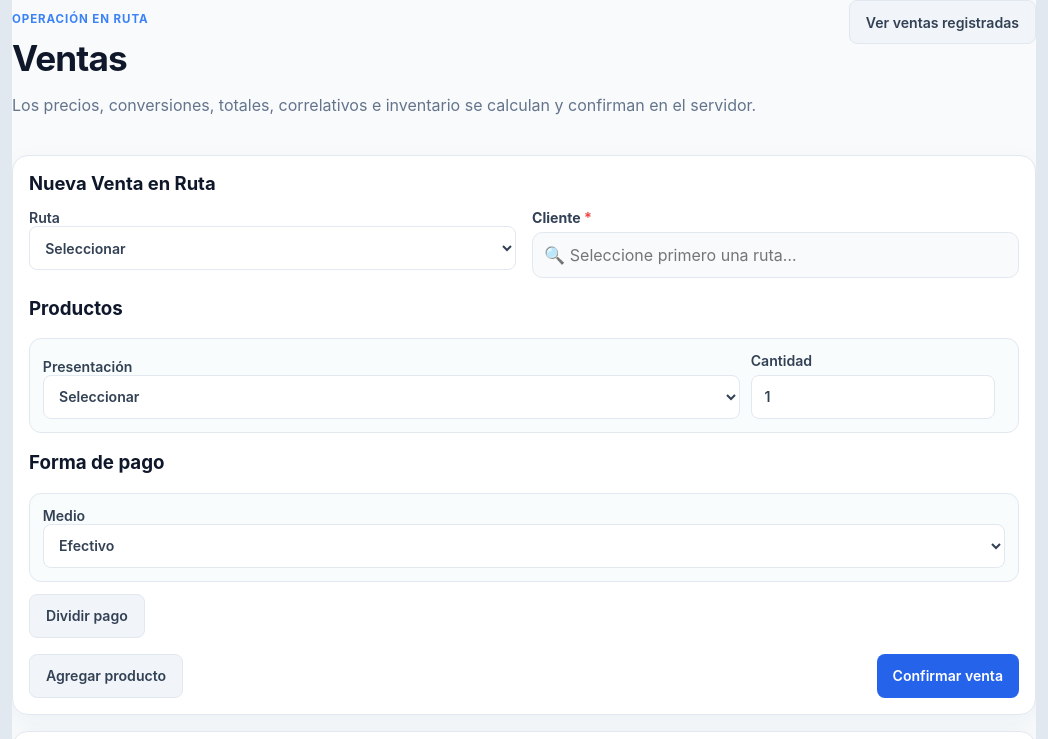
SalesPage › no crea una venta cuando el dispositivo no admite geolocalización
Select "R-01 · Ruta norte" in the dropdown labelled "Ruta". click: (272, 248)
box: [29,226,516,270]
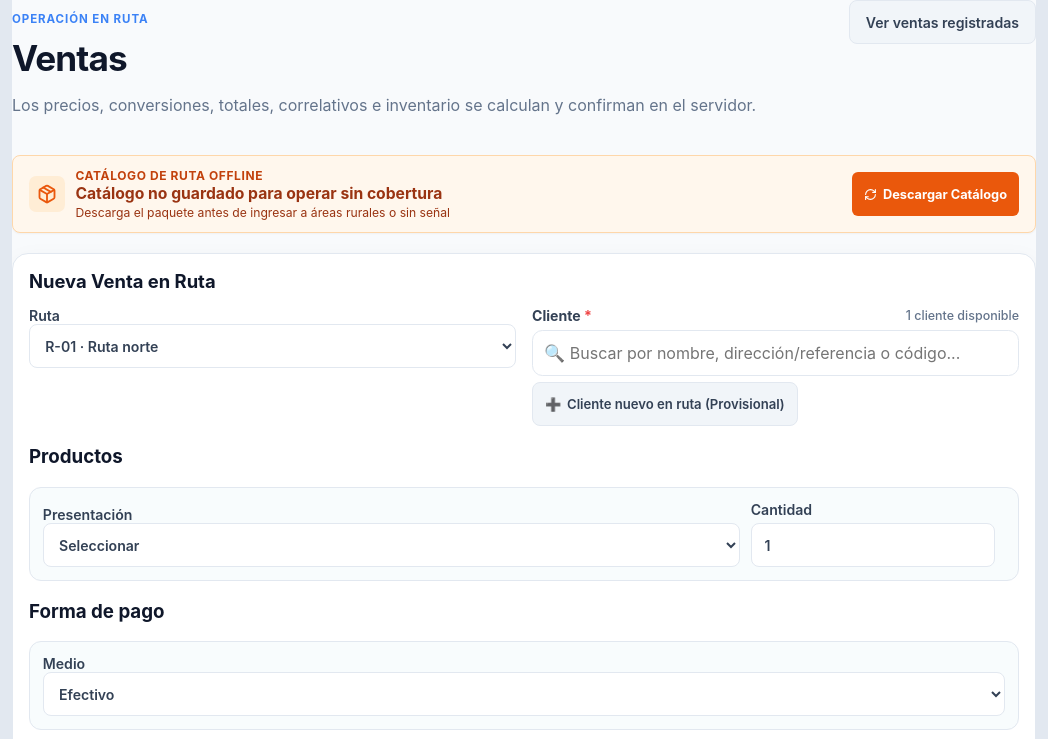
Select "⚡ C-01 · Tienda La Fuente (Provisional)" in the dropdown labelled "Cliente". click: (556, 316)
box: [532,307,1019,324]
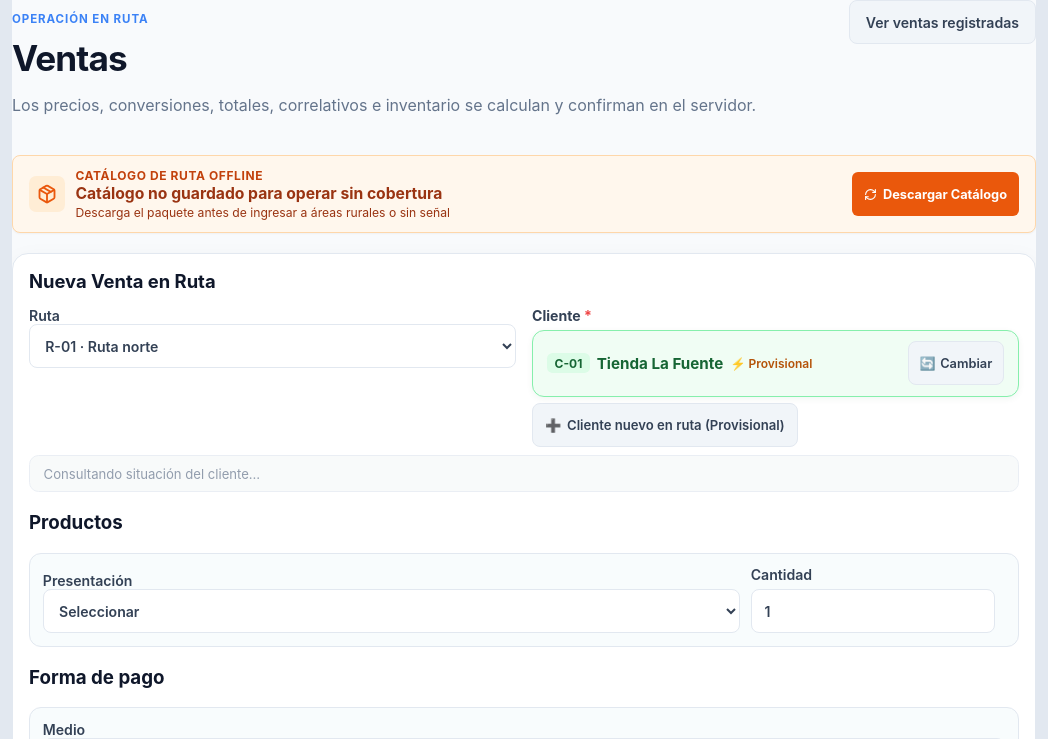
Select "AGUA · Agua pura · Botella 600 ml" in the dropdown labelled "Presentación". click: (392, 611)
box: [43,589,740,633]
(page scrolled)
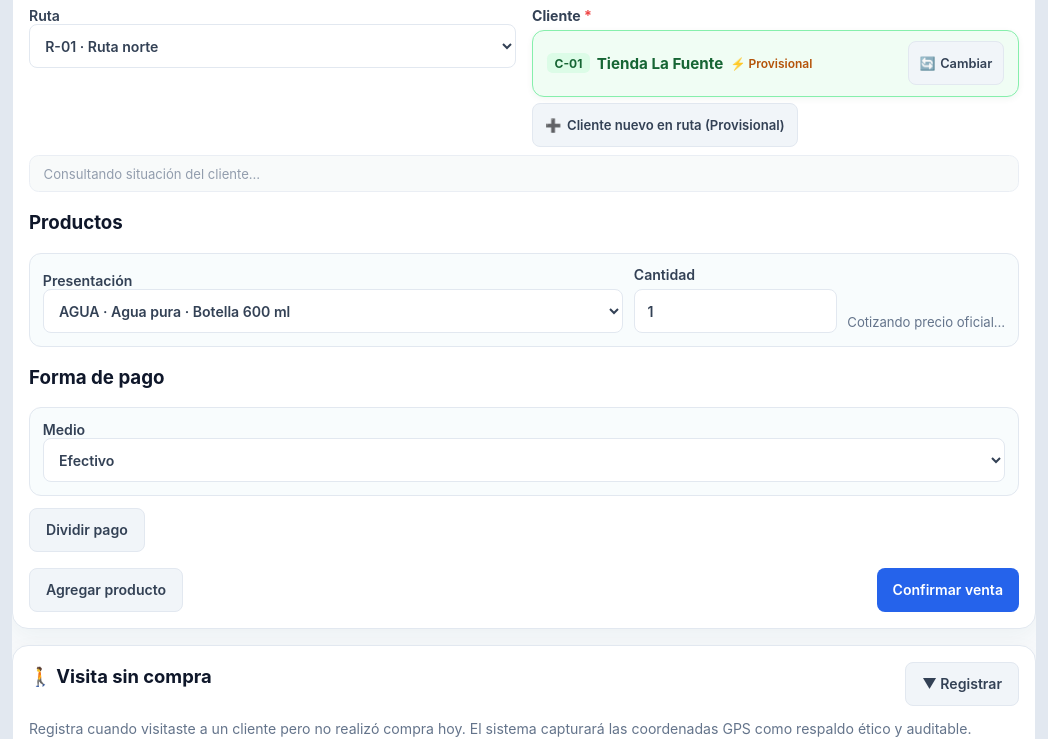
Click the button "Confirmar venta". click: (948, 590)
box: [876,568,1019,612]
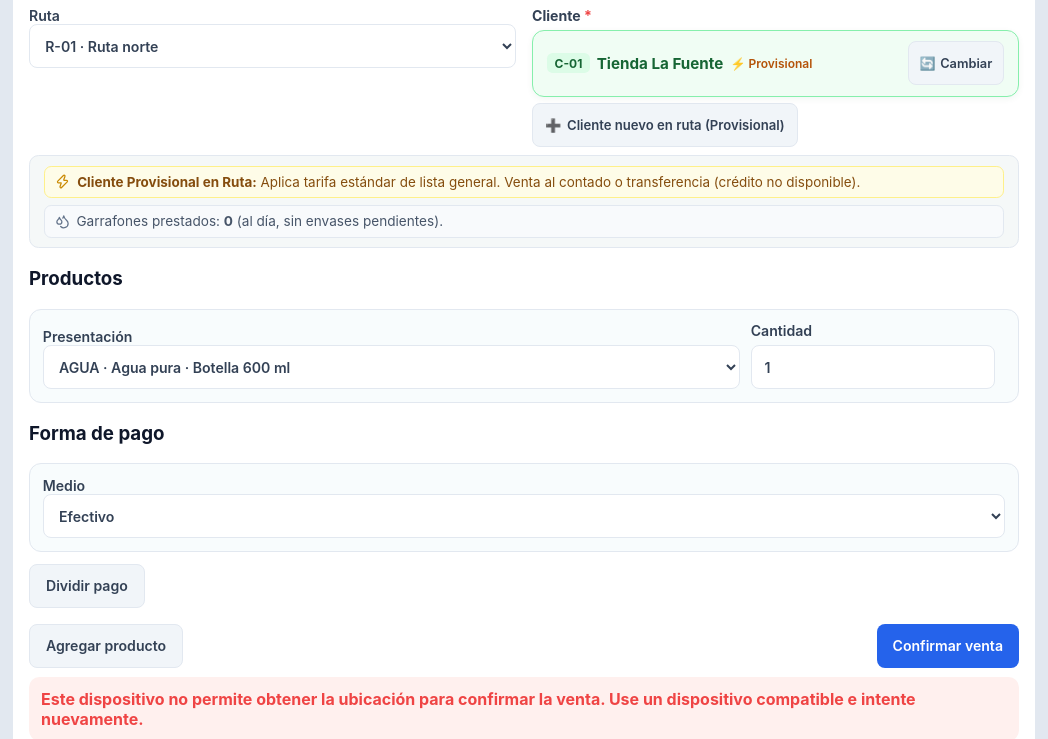
Expected: the text "Este dispositivo no permite obtener la ubicación" is shown, [41,689,916,729]
